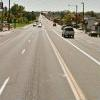Car: (57, 23, 78, 47)
